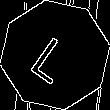L_NE: (28, 26, 82, 84)
